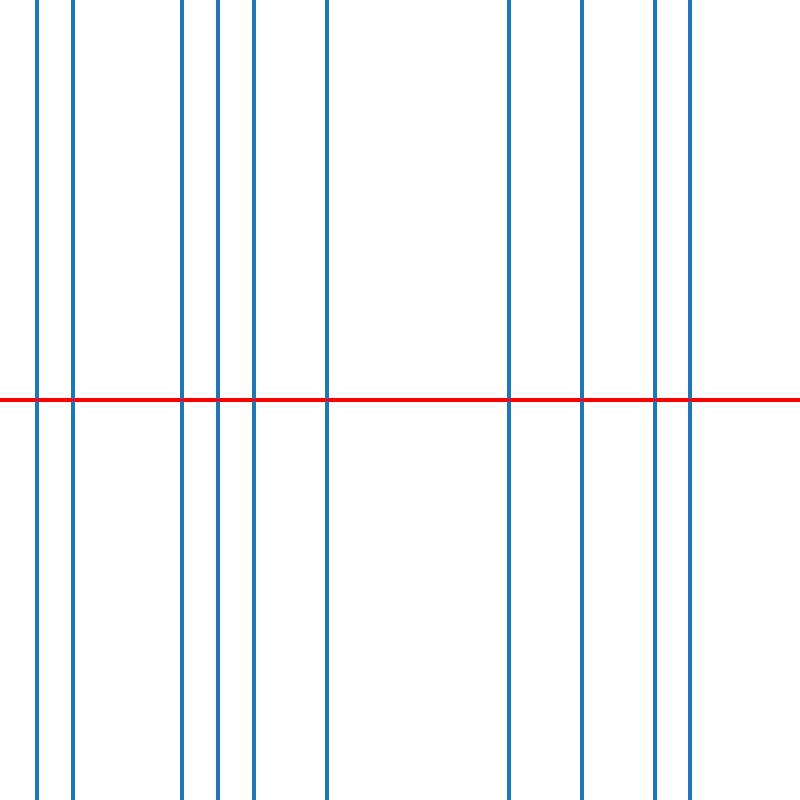root: (650, 396, 658, 404), (250, 396, 258, 404), (32, 396, 40, 404), (578, 396, 585, 404), (69, 396, 76, 404), (323, 396, 330, 404), (687, 396, 694, 404), (505, 396, 512, 404), (178, 396, 185, 404), (214, 396, 221, 404)
